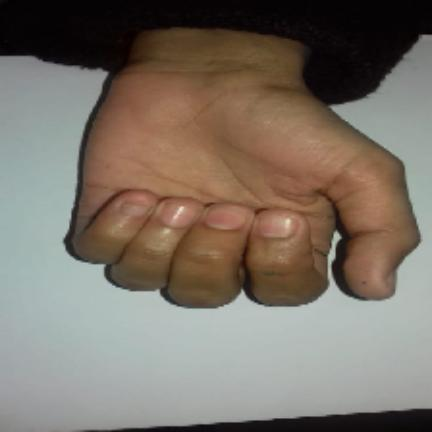Nail: (256, 208, 299, 238), (205, 203, 248, 230), (161, 200, 200, 228), (122, 204, 148, 216), (386, 270, 397, 290)
